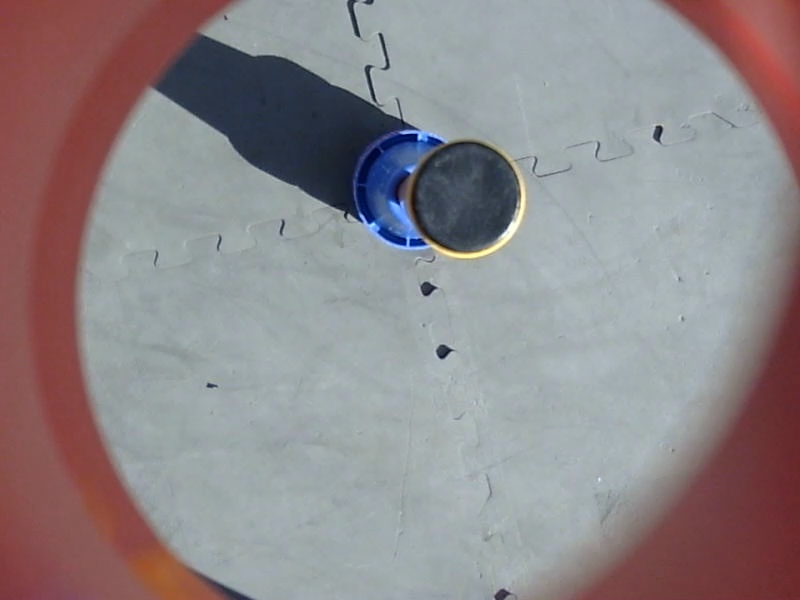tip: (400, 134, 534, 264)
